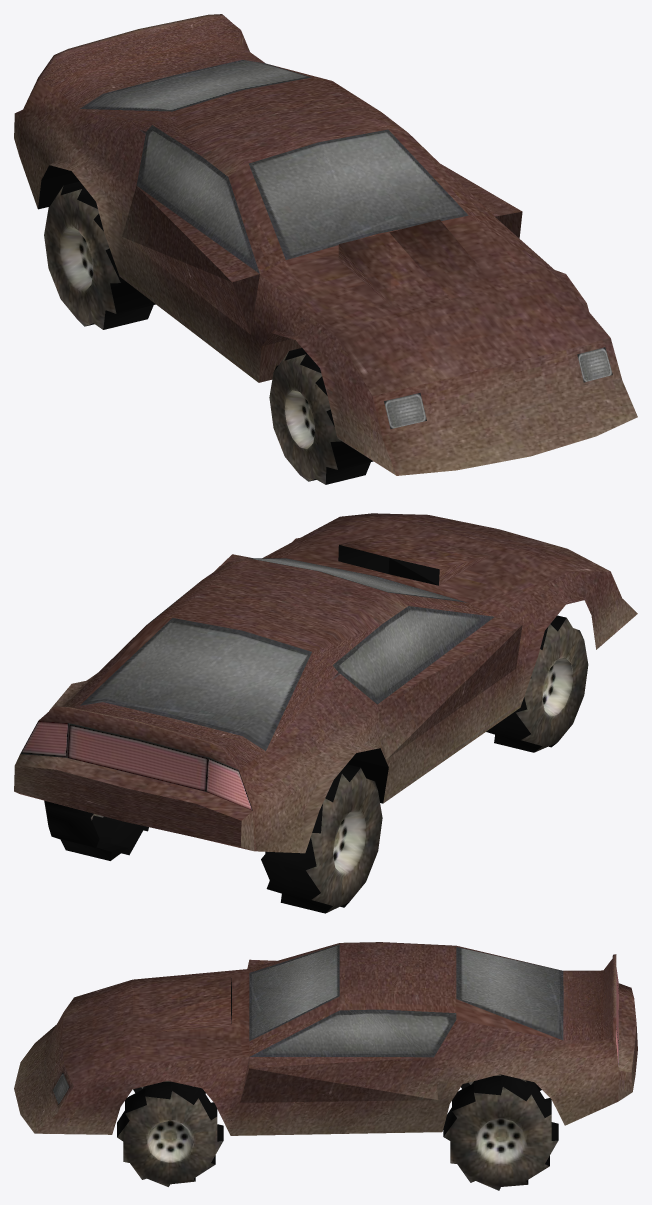
Rendered from PoliceCar.DAE.
3 renders of one model, top to bottom at view 1: azimuth 30°, elevation 25°; view 2: azimuth 150°, elevation 25°; view 3: azimuth 270°, elevation 25°, orthographic. The views are drawn at different scales.
Visible parts, largest first — view 1: camaro01, Cylinder01, Cylinder06; view 2: camaro01, Cylinder01, Cylinder06, Cylinder07; view 3: camaro01, Cylinder07, Cylinder08.
Boxes of the visible parts, x1,y1,x2,y2 form: camaro01: [14, 14, 637, 475]; Cylinder01: [44, 181, 155, 329]; Cylinder06: [269, 348, 373, 484]; camaro01: [14, 513, 637, 853]; Cylinder01: [261, 764, 382, 913]; Cylinder06: [486, 615, 588, 752]; Cylinder07: [44, 800, 148, 860]; camaro01: [14, 942, 637, 1135]; Cylinder07: [443, 1074, 558, 1190]; Cylinder08: [117, 1081, 223, 1186].
Size of the model in its own units: 20.78 by 50.46 by 15.73.
